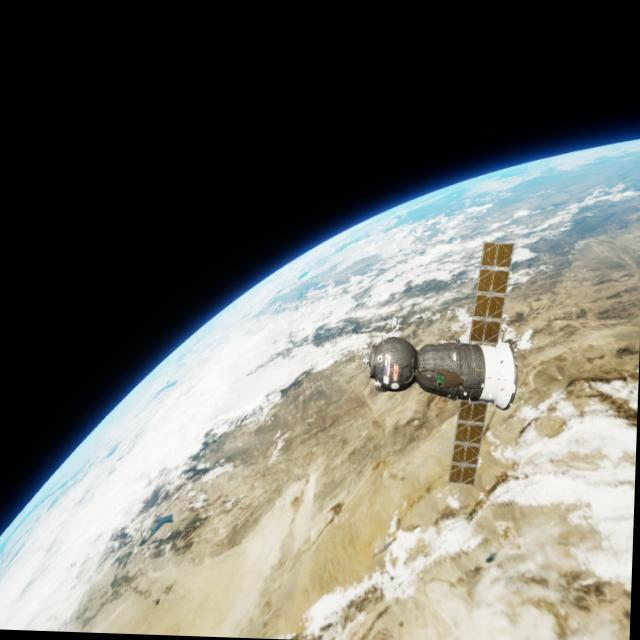Satellites revolving around earth: (0, 112, 640, 640), (360, 235, 524, 490)
